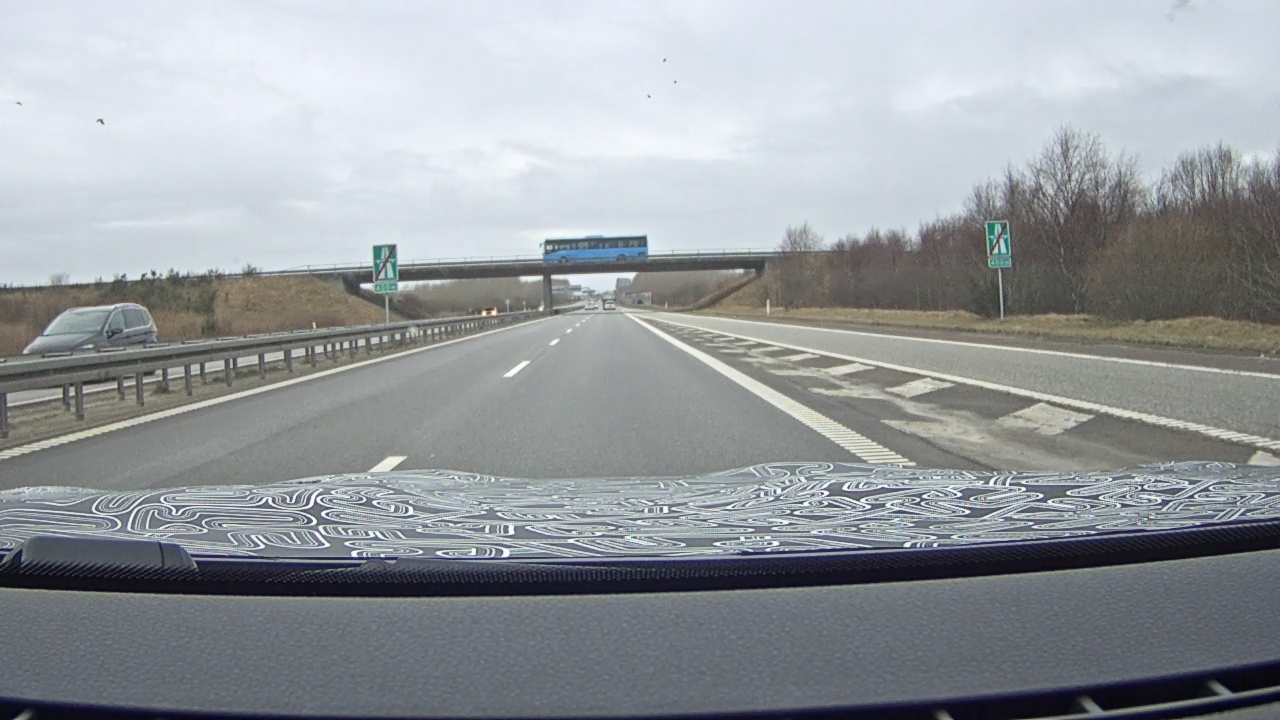Regular_End_Of_Motorway: (372, 243, 399, 283), (985, 219, 1011, 257)
